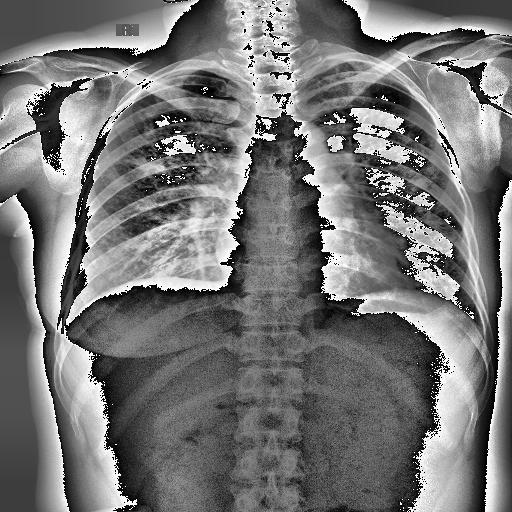13- Pulmonary fibrosis: (100, 98, 164, 174), (123, 103, 168, 179), (317, 64, 369, 100)
5- ILD: (324, 70, 473, 298)
6- Infiltration: (324, 70, 473, 298), (111, 83, 213, 185), (392, 127, 444, 226), (123, 103, 168, 179), (318, 68, 373, 109)
7- Lung Opacity: (324, 70, 473, 298), (111, 83, 213, 185), (317, 64, 369, 100)
9- Other lesion: (90, 228, 152, 282), (400, 162, 444, 238)
